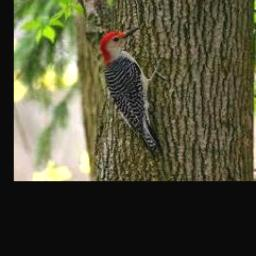Woodpecker: (100, 26, 167, 152)
